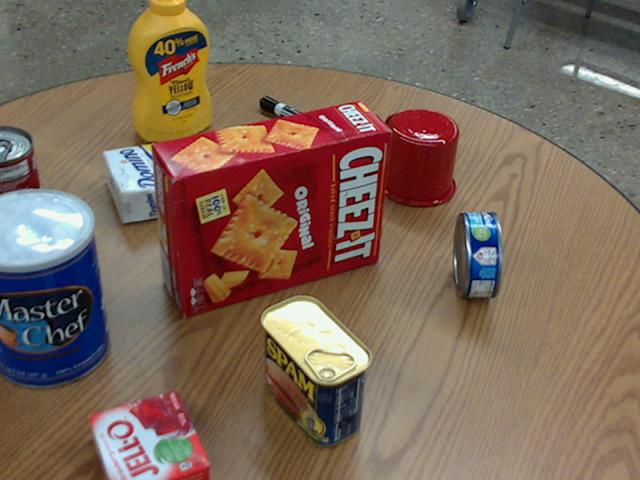cracker_box: (153, 101, 390, 314)
gelatin_box: (87, 389, 206, 479)
large_marker: (260, 95, 337, 140)
master_chef_can: (0, 189, 108, 388)
mug: (376, 109, 458, 207)
mustard_bottle: (129, 0, 211, 140)
potted_meat_can: (259, 294, 369, 446)
sugar_box: (102, 127, 276, 222)
tomato_soup_can: (0, 125, 46, 242)
tuna_fish_can: (452, 211, 502, 297)
